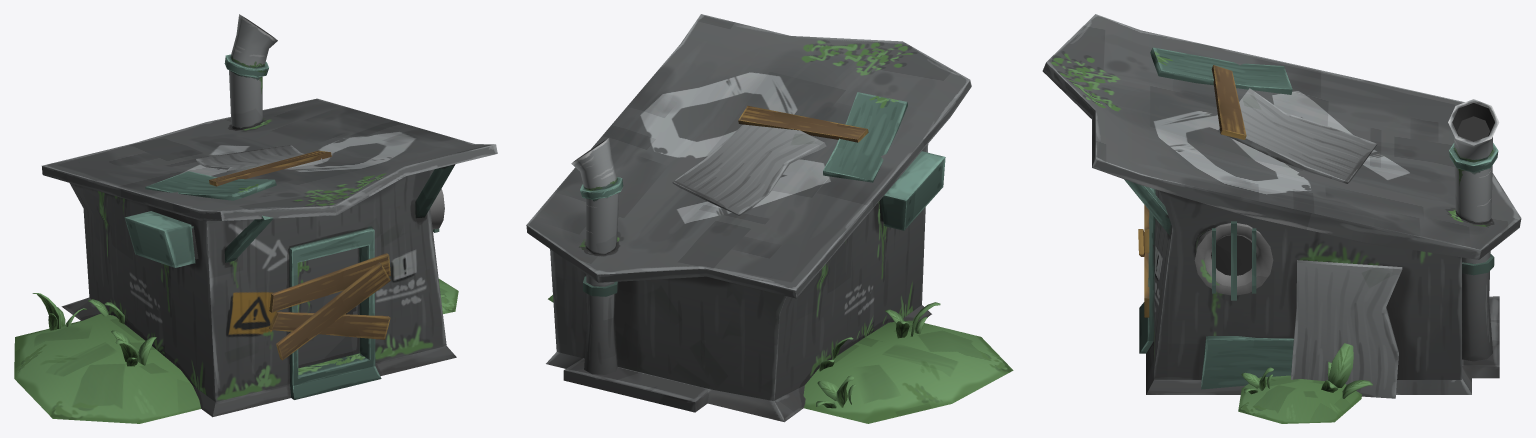
File: Bunker1.glb
The picture shows the model from 3 angles, left to right: view 1: azimuth 30°, elevation 25°; view 2: azimuth 150°, elevation 25°; view 3: azimuth 270°, elevation 25°; orthographic projection. The views are drawn at different scales.
Parts seen in each view (by area): view 1: Bunker1; view 2: Bunker1; view 3: Bunker1.
Part boxes in pixels (x1=…): Bunker1: x1=14, y1=14, x2=497, y2=423; Bunker1: x1=526, y1=14, x2=1013, y2=423; Bunker1: x1=1042, y1=14, x2=1521, y2=423.
Size of the model in its own units: 6.33 by 3.45 by 5.65.
Materials: 1 (1 with a texture image).
